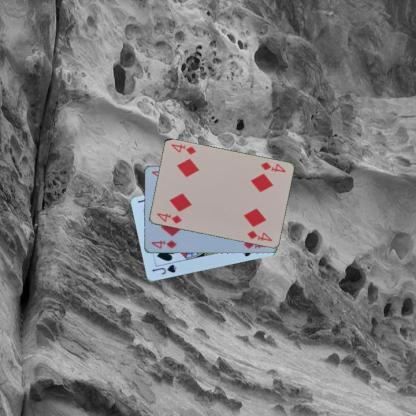4d: (258, 159, 286, 174), (154, 210, 183, 224), (148, 238, 178, 250)
Js: (150, 262, 178, 276)
